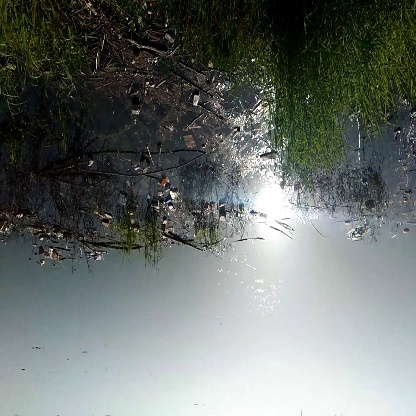branch: (40, 153, 213, 181)
